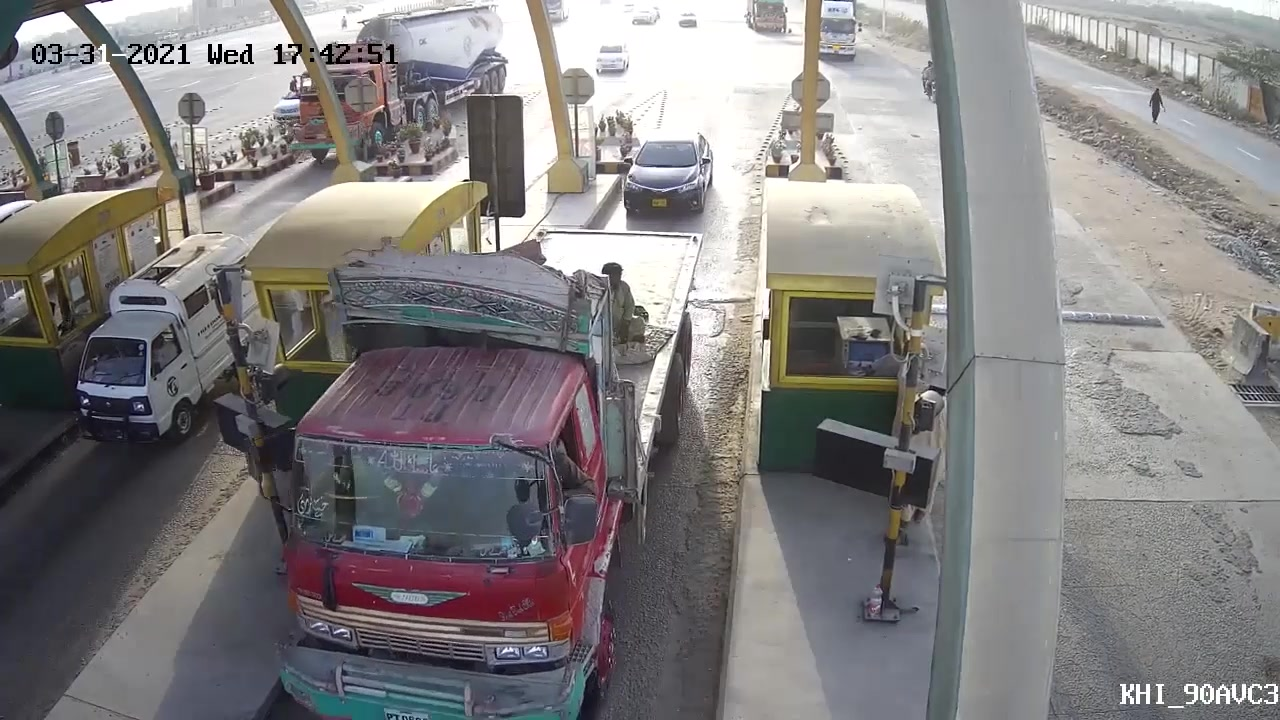F1: (617, 127, 716, 221)
F5: (235, 222, 709, 716)
